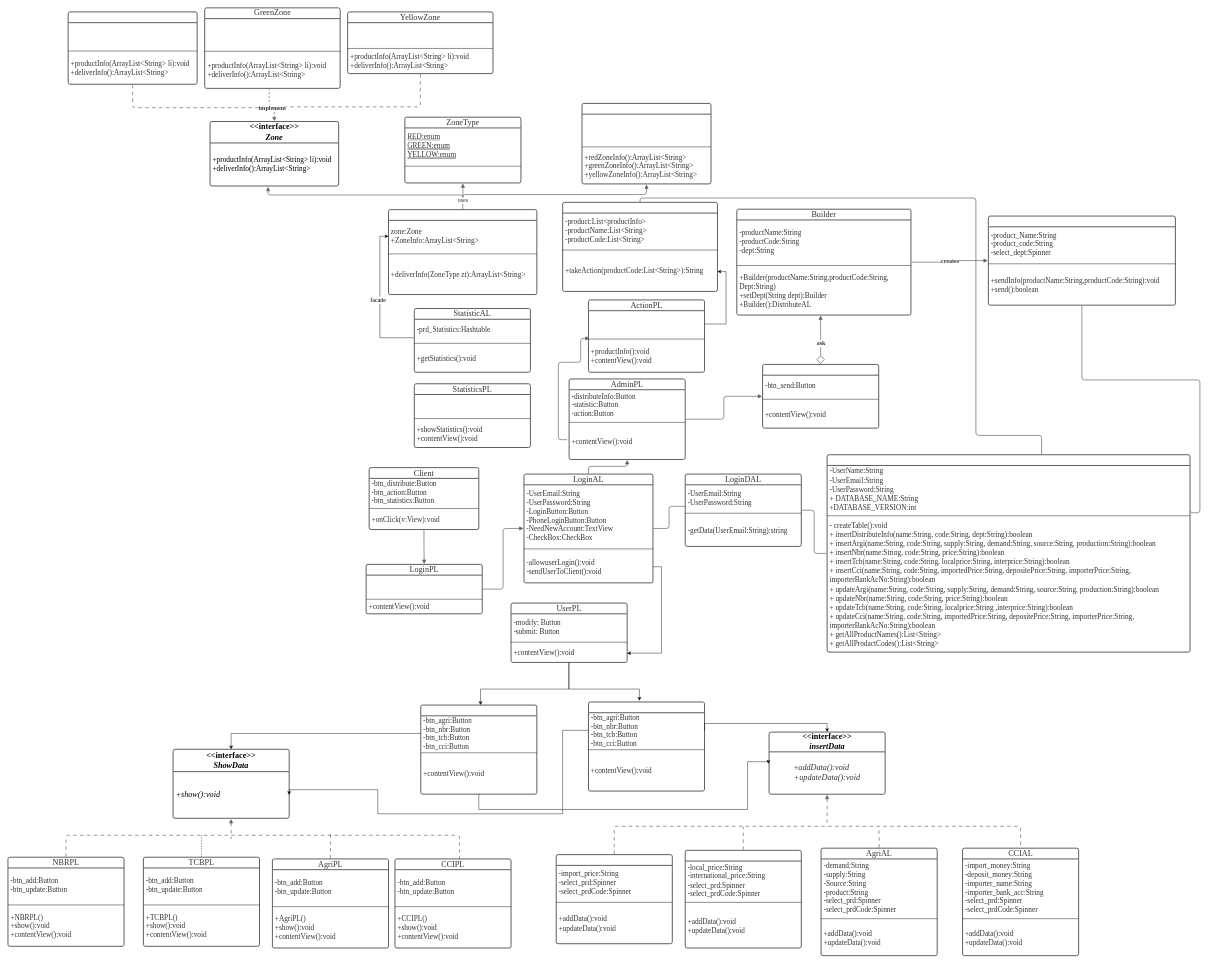
This 1208x964 diagram has some shape labels left out. Here are the shapes that lost their labels. From the top down, the box of each, then its label:
(67, 11, 197, 84): RedZone
(581, 103, 711, 184): RetrieveZone
(388, 209, 537, 295): HandleZone
(562, 202, 718, 292): ActionAL
(988, 215, 1176, 305): DistributeAL
(762, 364, 879, 428): DistributePL
(826, 454, 1190, 652): DBHelper
(420, 704, 537, 794): SubmitPL
(588, 701, 705, 791): ModifyPL
(556, 854, 673, 944): NBRAL
(685, 850, 802, 948): TCBAL
